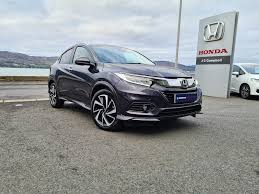Honda: (48, 41, 205, 133)
